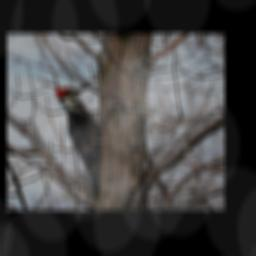Woodpecker: (54, 84, 105, 206)
